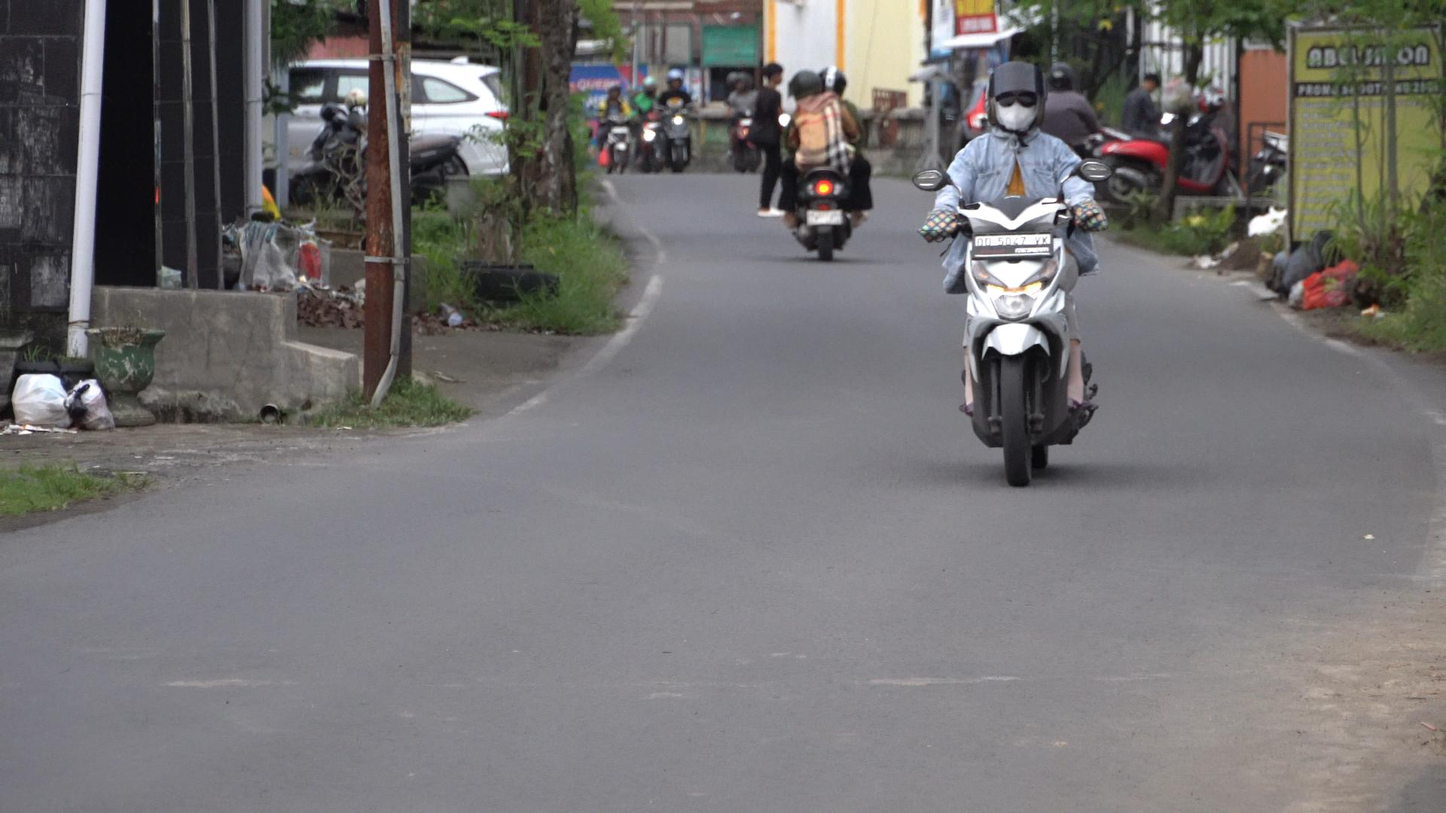number-plate: (969, 231, 1056, 263)
